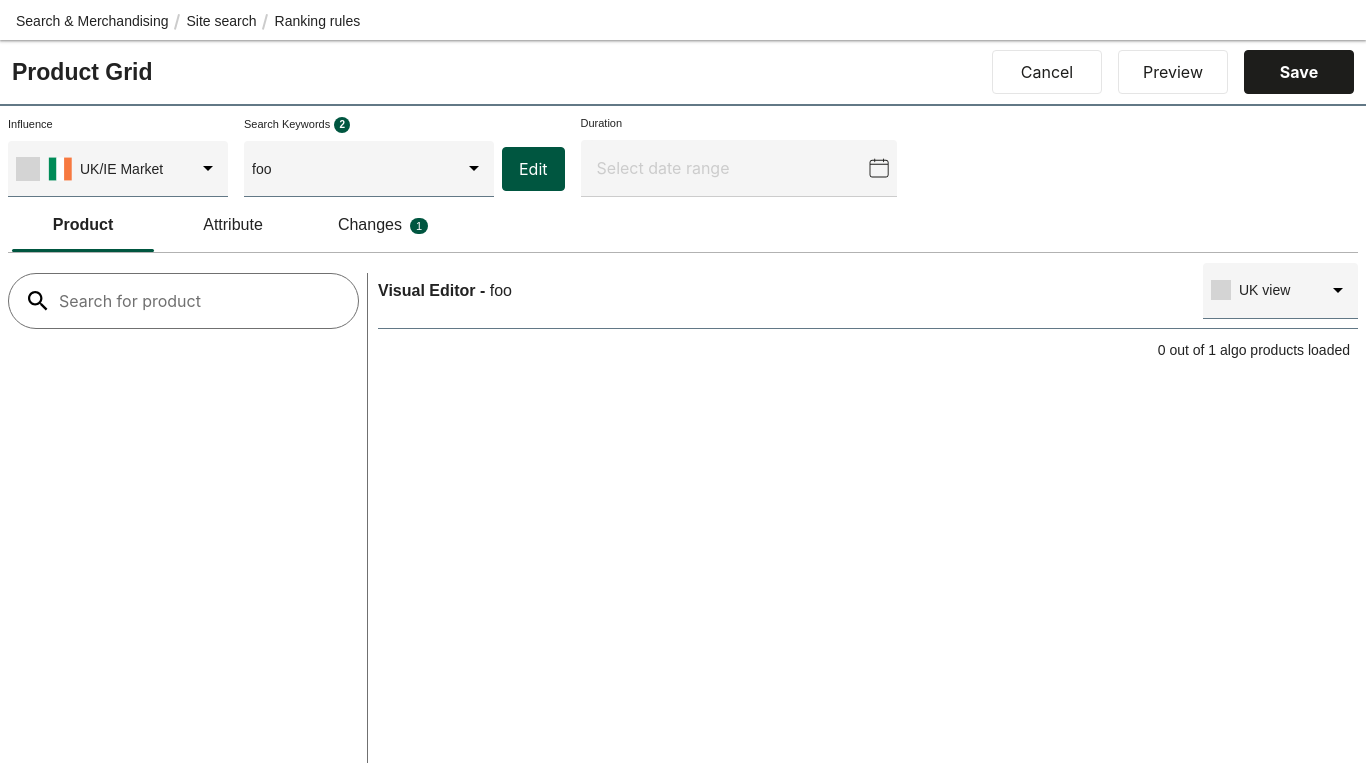
Test: Search ranking rules › sends the v1 flag + version and shows the conflict modal on a 409
Click the button "Save" at (1299, 72), box [1244,50,1354,94]
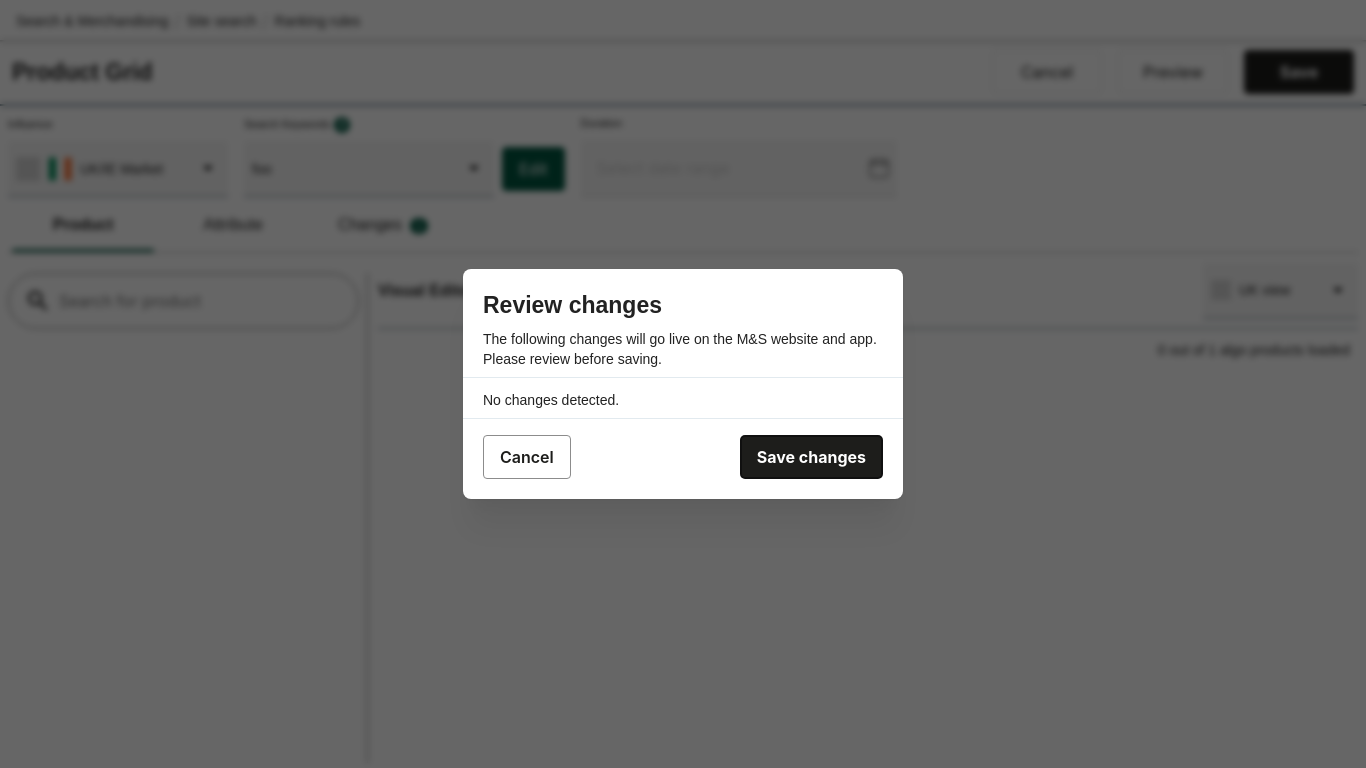
Click the button "Save changes" at (811, 457), box [740,435,883,479]
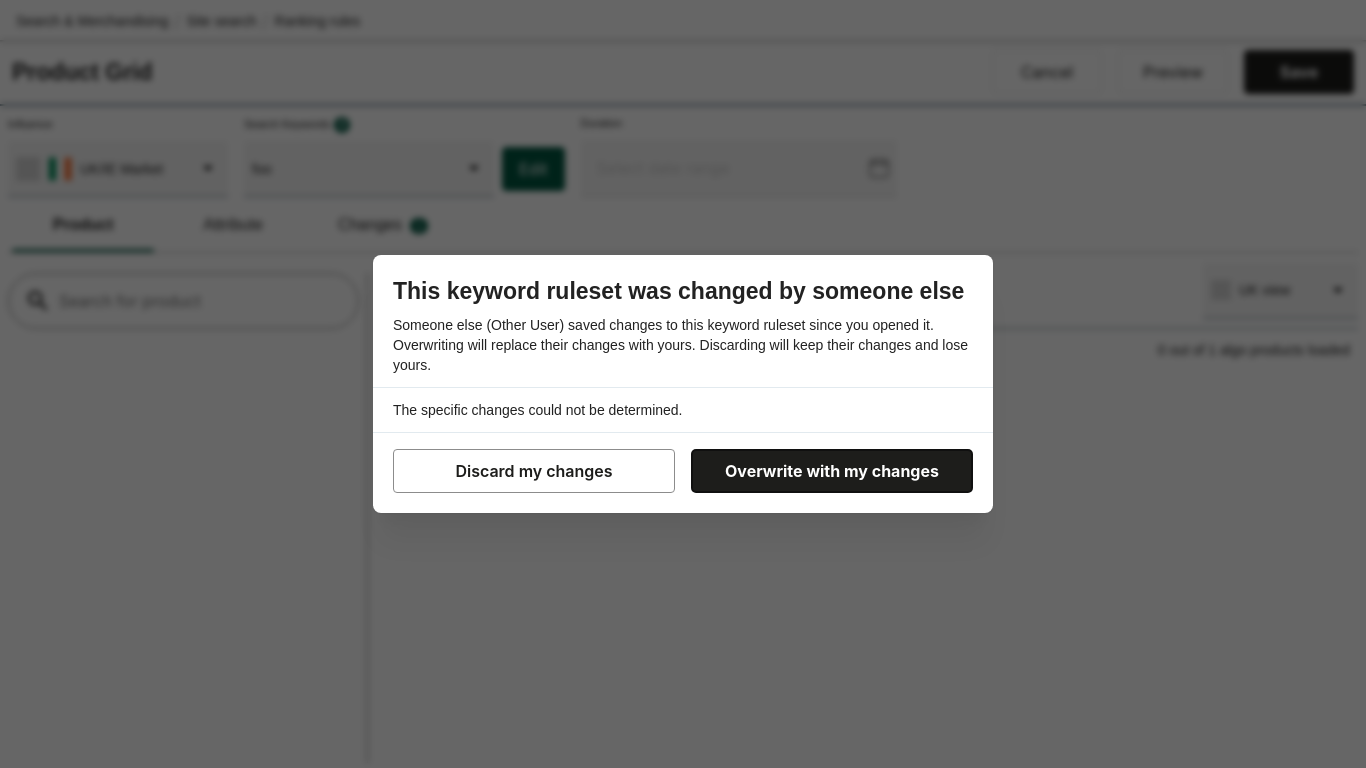
Expected: the dialog "This keyword ruleset was changed by someone else" is shown, [373,255,993,513]
